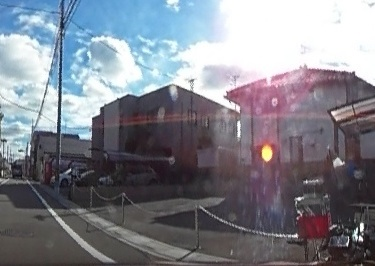person: (365, 97, 375, 266)
